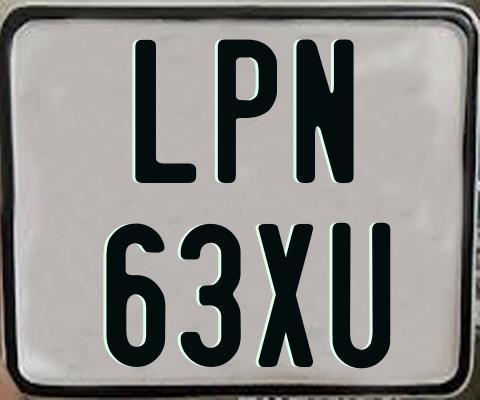3: (178, 223, 243, 372)
6: (104, 221, 164, 366)
L: (133, 39, 196, 186)
N: (296, 38, 359, 185)
P: (216, 36, 280, 186)
U: (331, 220, 390, 367)
X: (259, 224, 318, 368)
